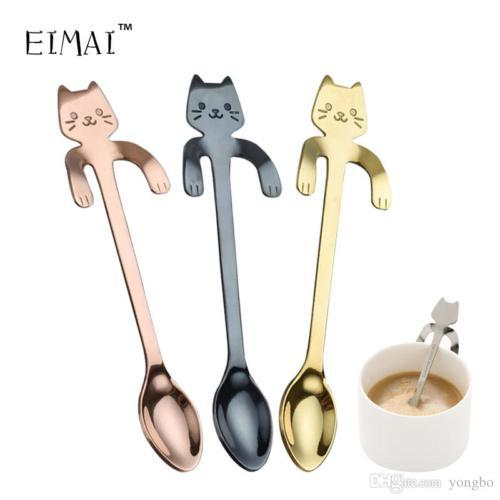Spoon: (57, 80, 202, 472), (279, 75, 392, 472), (182, 73, 282, 472), (408, 296, 459, 408)
